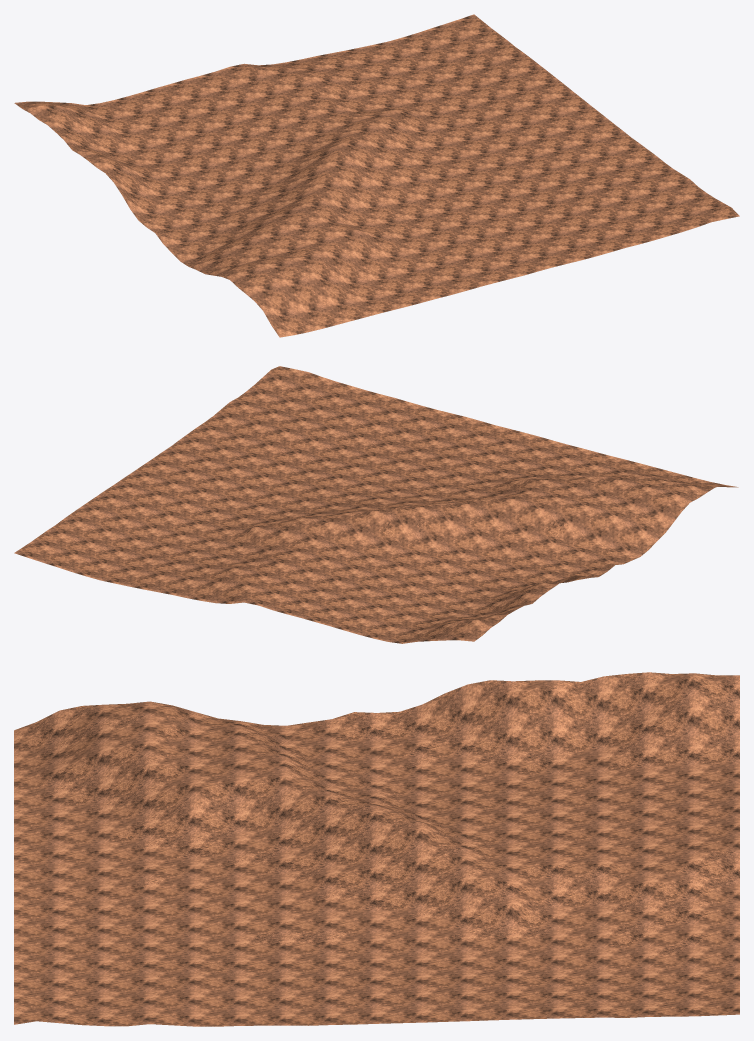
Rendered from terrain_06_08.dae.
3 renders of one model, top to bottom at view 1: azimuth 30°, elevation 25°; view 2: azimuth 150°, elevation 25°; view 3: azimuth 270°, elevation 25°, orthographic. The views are drawn at different scales.
Parts seen in each view (by area): view 1: terrain_06_08-node; view 2: terrain_06_08-node; view 3: terrain_06_08-node.
Boxes of the visible parts, x1,y1,x2,y2 form: terrain_06_08-node: (14,14,739,337); terrain_06_08-node: (14,366,738,643); terrain_06_08-node: (14,672,739,1026).
Bounding box in the file's own units: 128 × 128 × 12.66.
1 material, 1 textured.
